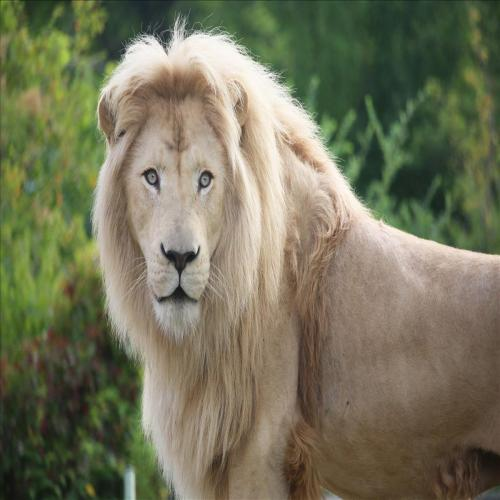lion-endangered: (98, 42, 500, 500)
